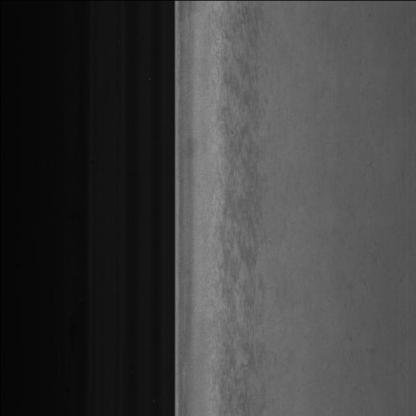silk_spot: (211, 51, 266, 381)
